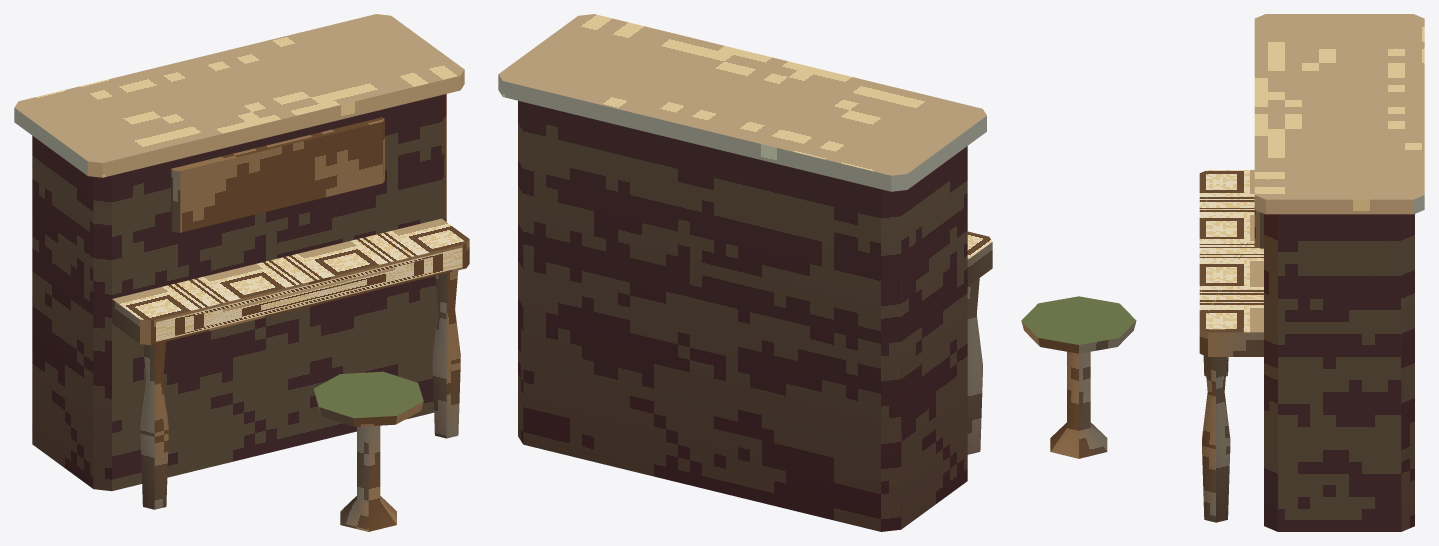
Rendered from wprop.piano.glb.
The picture shows the model from 3 angles, left to right: view 1: azimuth 30°, elevation 25°; view 2: azimuth 150°, elevation 25°; view 3: azimuth 270°, elevation 25°; orthographic projection. The views are drawn at different scales.
Visible parts, largest first — view 1: kit_cabinet, kit_top_trim, kit_rest, kit_keyshelf, kit_stool, kit_legs, kit_card_keys; view 2: kit_cabinet, kit_top_trim, kit_legs, kit_keyshelf; view 3: kit_cabinet, kit_top_trim, kit_keyshelf, kit_stool, kit_legs.
Part boxes in pixels (x1=…): kit_cabinet: x1=32, y1=94, x2=446, y2=491; kit_top_trim: x1=14, y1=14, x2=464, y2=177; kit_rest: x1=171, y1=117, x2=384, y2=232; kit_keyshelf: x1=112, y1=218, x2=469, y2=345; kit_stool: x1=313, y1=371, x2=423, y2=531; kit_legs: x1=140, y1=270, x2=460, y2=509; kit_card_keys: x1=156, y1=247, x2=462, y2=341; kit_cabinet: x1=518, y1=101, x2=967, y2=531; kit_top_trim: x1=498, y1=14, x2=986, y2=191; kit_legs: x1=967, y1=278, x2=982, y2=454; kit_keyshelf: x1=967, y1=231, x2=992, y2=286; kit_cabinet: x1=1264, y1=214, x2=1414, y2=531; kit_top_trim: x1=1254, y1=14, x2=1424, y2=214; kit_keyshelf: x1=1199, y1=170, x2=1263, y2=356; kit_stool: x1=1021, y1=296, x2=1136, y2=458; kit_legs: x1=1202, y1=355, x2=1230, y2=522.
Bounding box in the file's own units: 1.6 × 1.36 × 1.47.
Materials: 5 (5 with a texture image).
